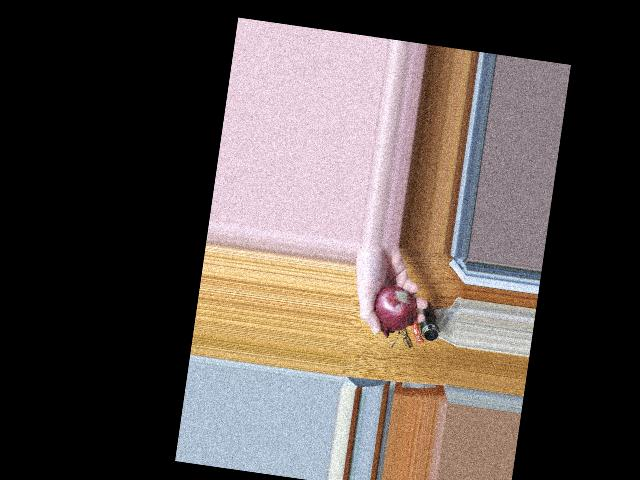onion: (372, 285, 417, 331)
